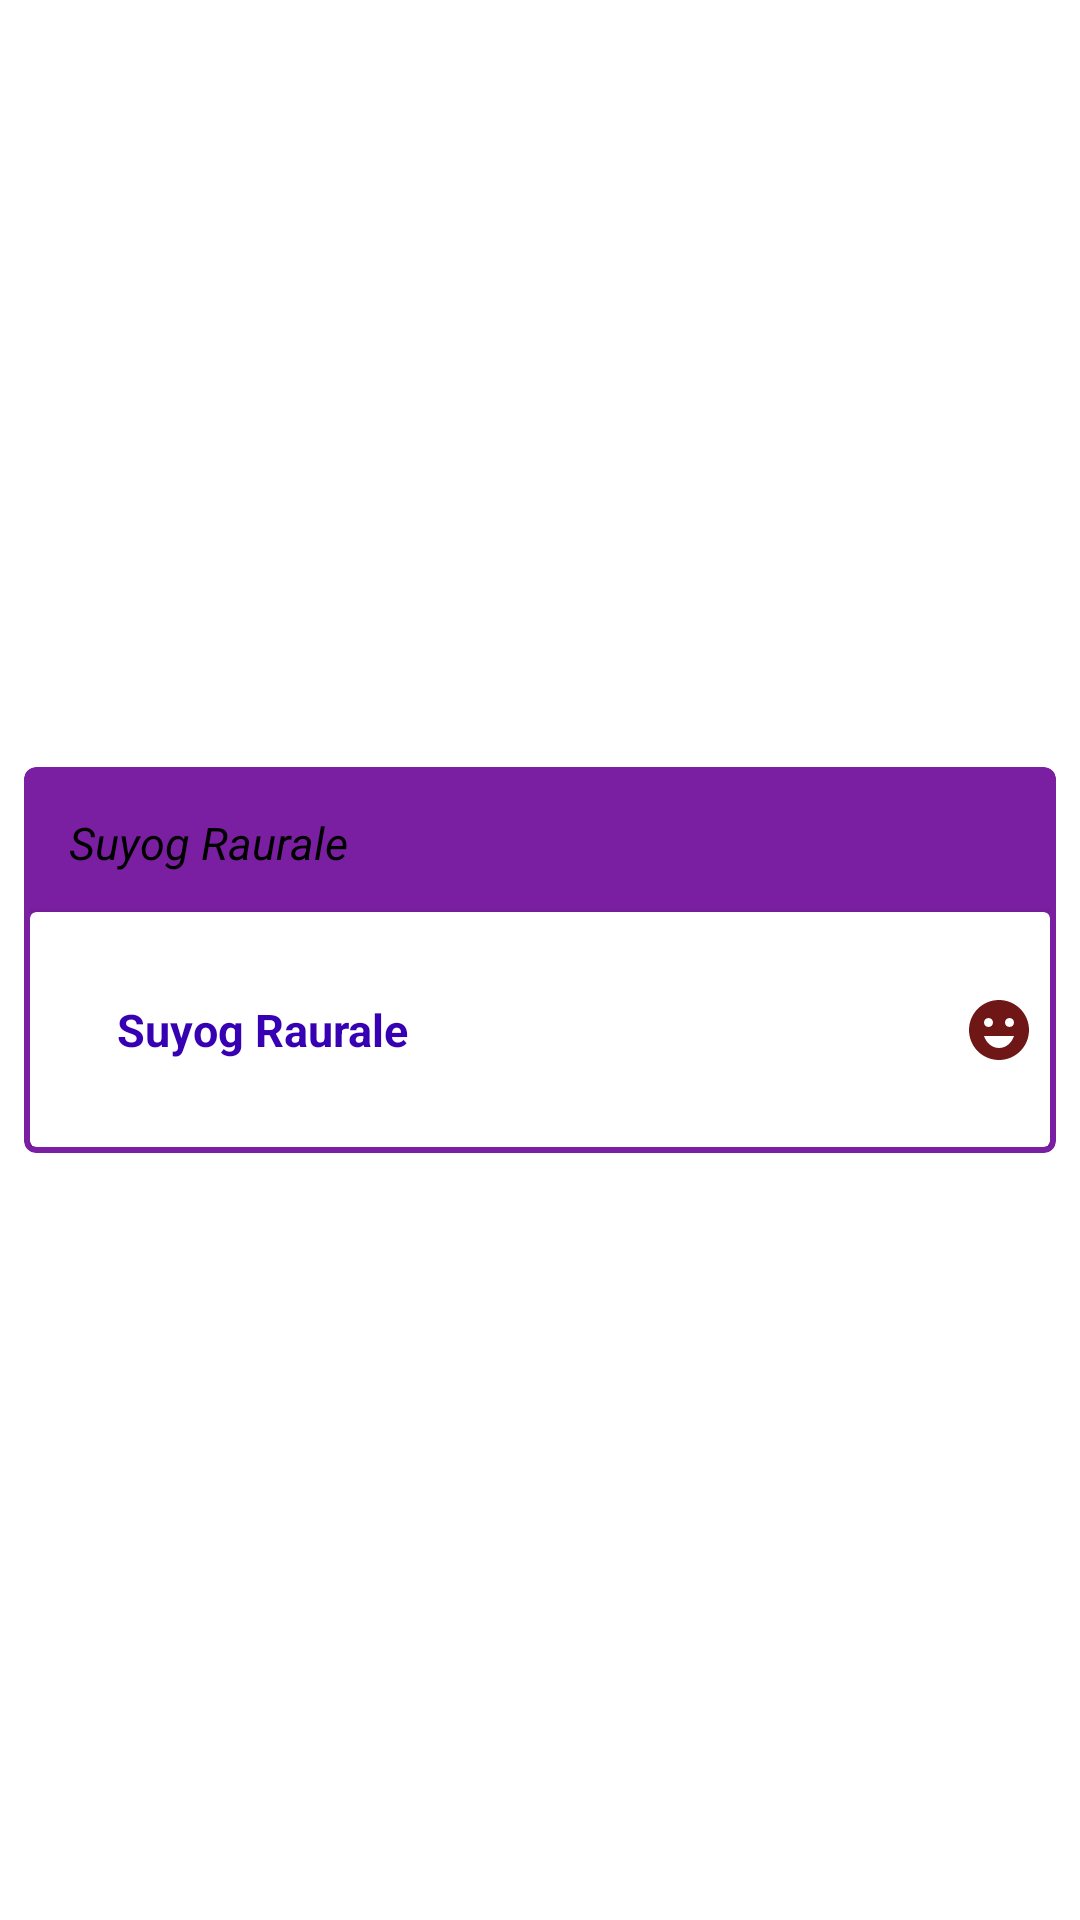

Icon bounding boxes for this 1080 × 1920 phone screenshot, format (x1, y1, x2, y2):
emoji emotions: (969, 1000, 1029, 1060)
